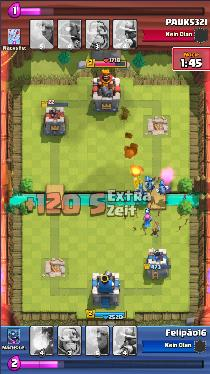EGoblinGiant: (157, 184, 168, 194), (136, 188, 146, 198), (146, 181, 154, 190)
EMiner: (142, 213, 153, 227)
ERoyalKnight: (129, 164, 148, 190)
